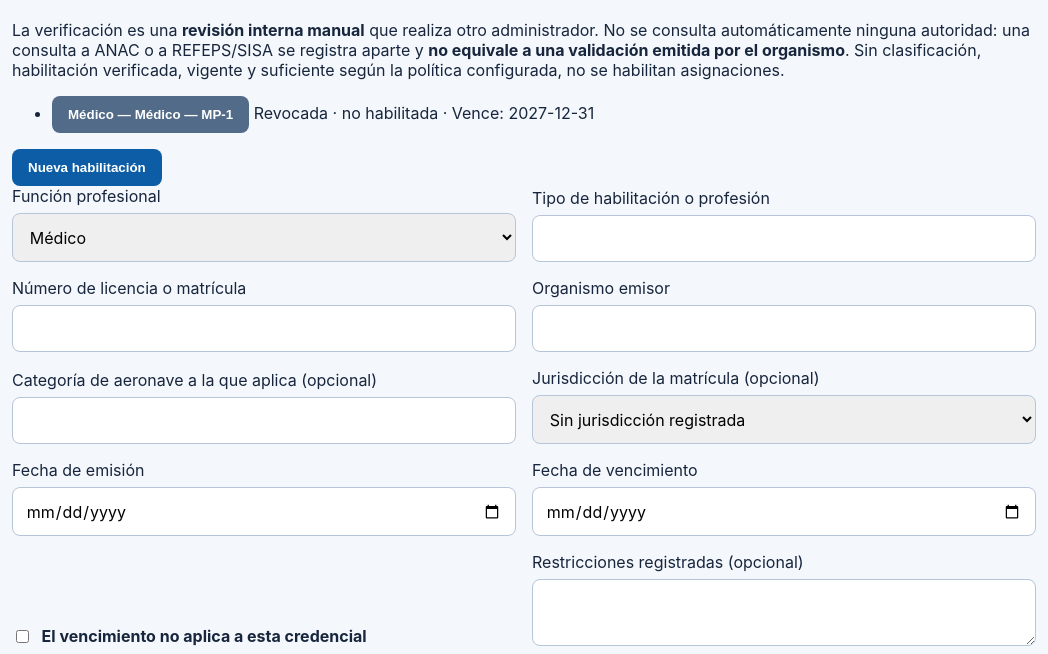
Test: a revoked credential cannot be edited or receive documents
Click the button "Médico — Médico — MP-1": point(151, 114) [52,96,249,133]
(page scrolled)
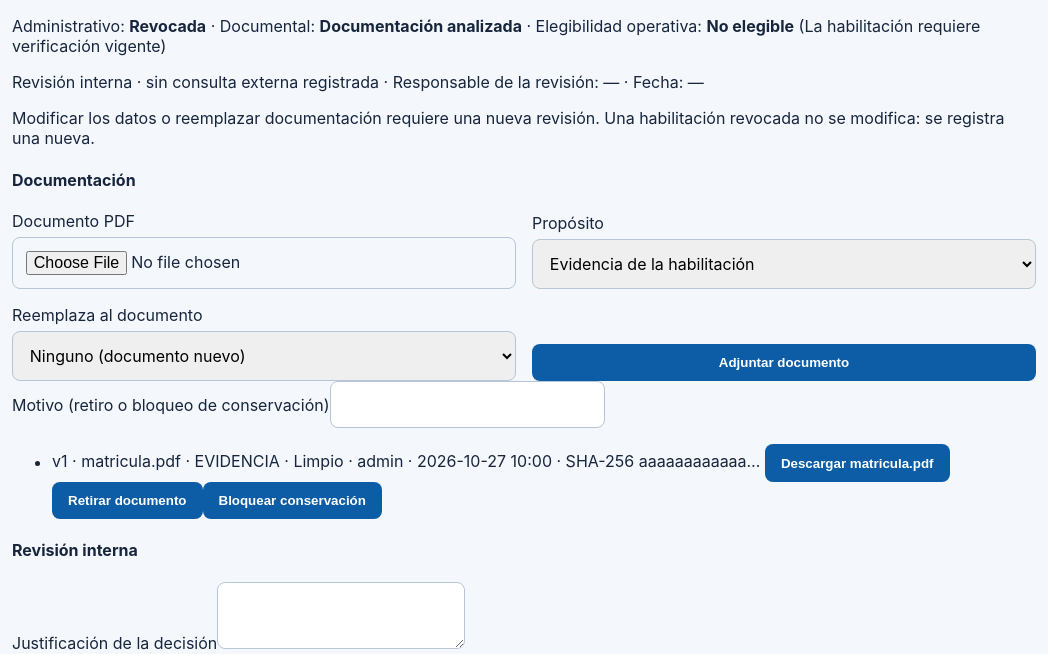
Check: the button "Adjuntar documento" is disabled, box [532,344,1036,381]
